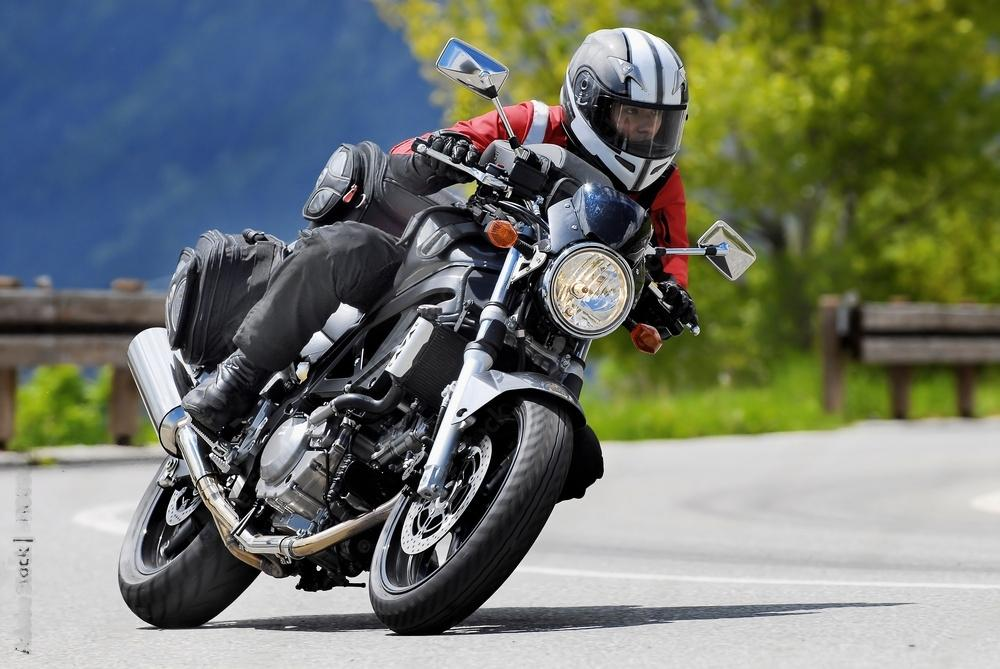helmet: (559, 26, 691, 196)
